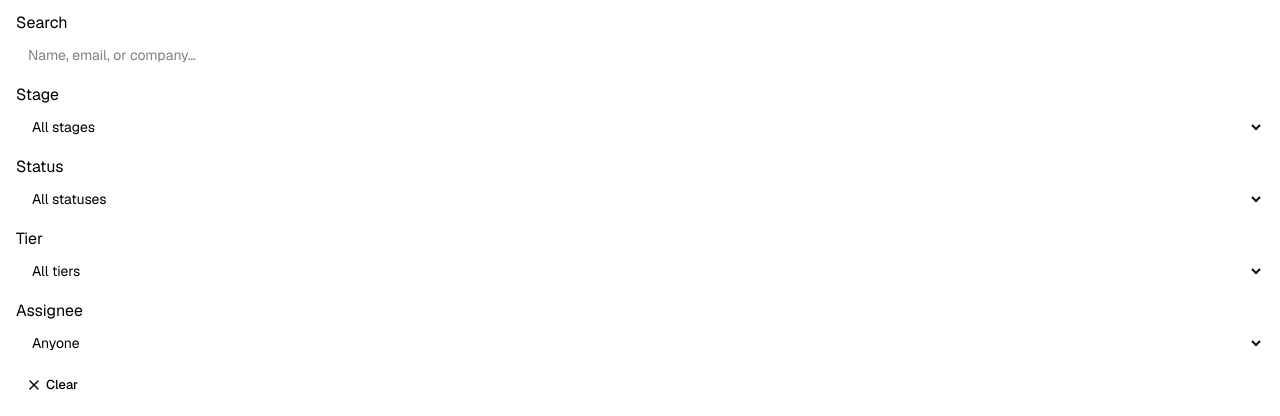
Test: keeps typing responsive and clearing cannot resurrect an old debounced search
Type "First" into the search field labelled "Search".
click(640, 55); type("First")  # box [16,39,1264,71]
Wait 400 ms
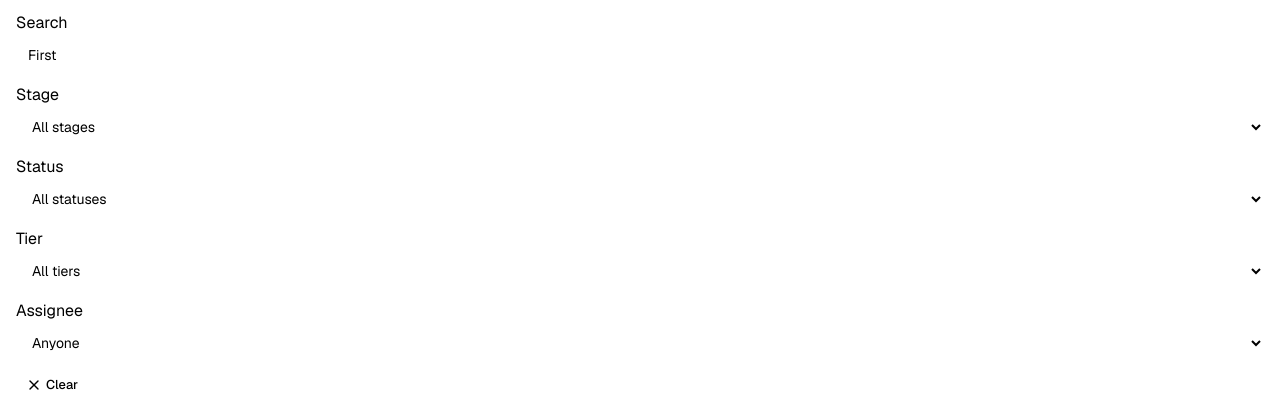
Replace the text in the search field labelled "Search" with "Second" at (640, 55), box [16,39,1264,71]
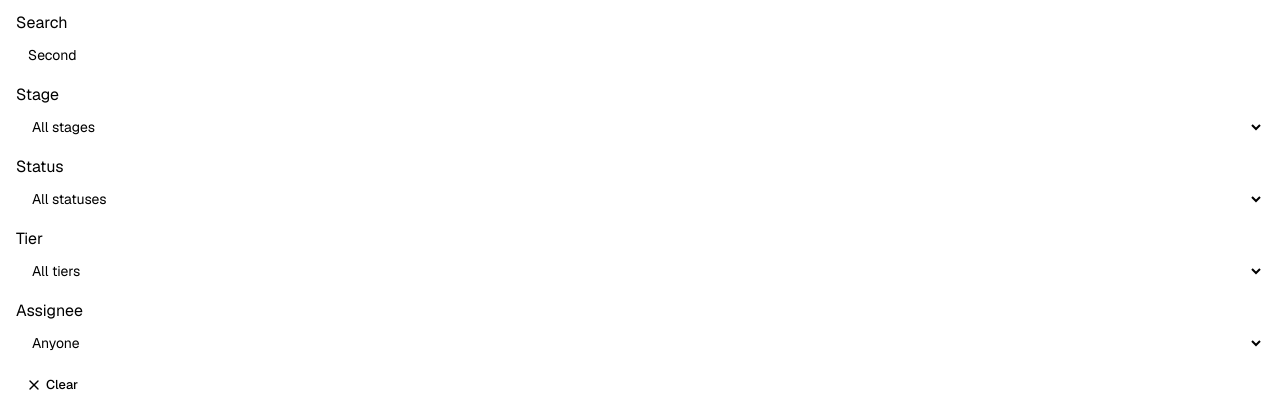
Click the button with aria-label "Clear all filters".
click(52, 385)  # box [16,371,88,399]
Wait 400 ms
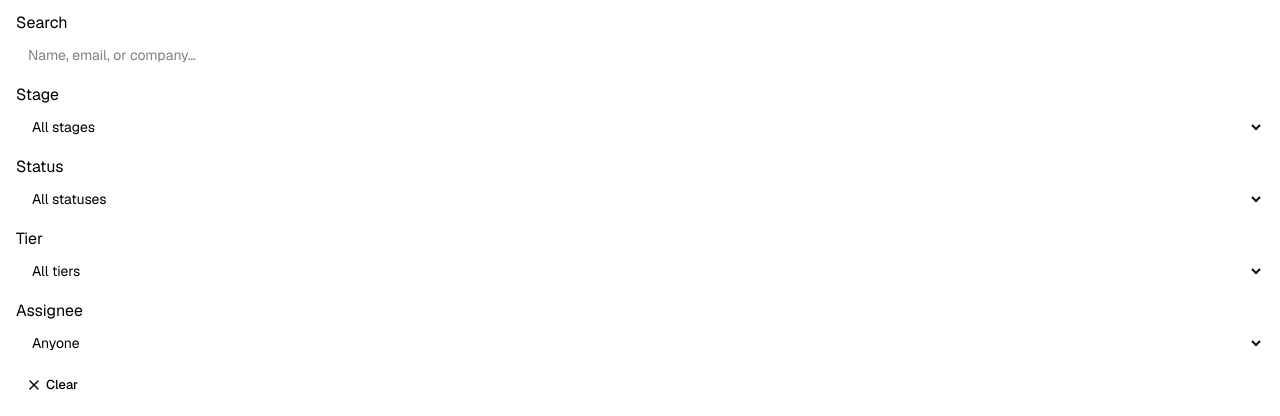
Expected: the search field labelled "Search" is empty, [16,39,1264,71]
